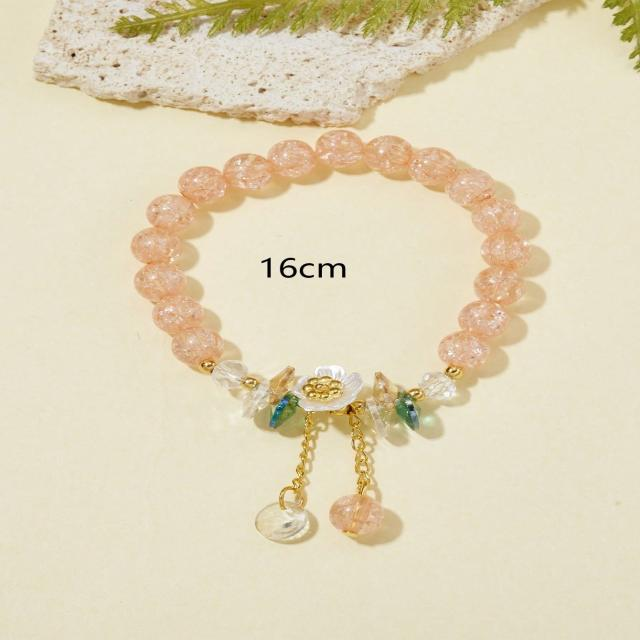bracelet: (91, 110, 640, 582)
